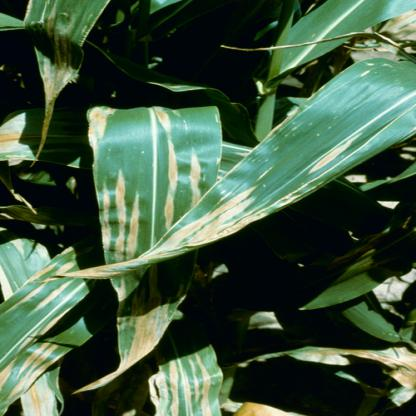corn leaf blight: (67, 64, 413, 283), (83, 97, 225, 414)
